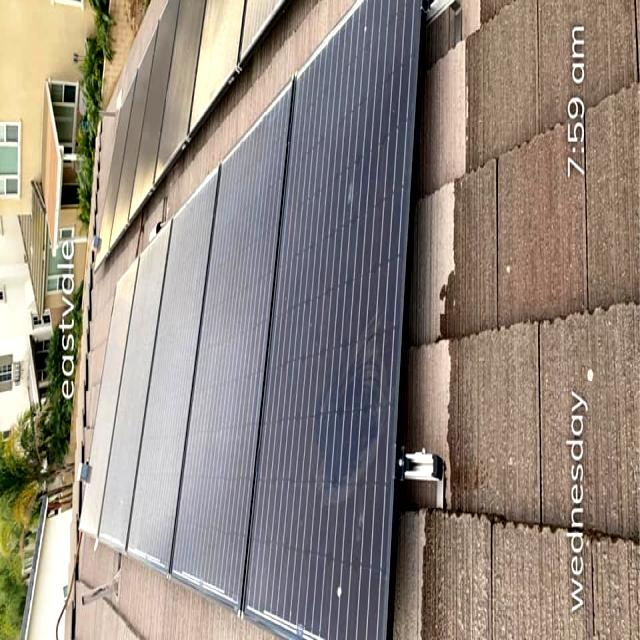dust: (298, 84, 380, 614), (258, 133, 287, 587), (177, 224, 214, 554), (224, 169, 252, 574)
